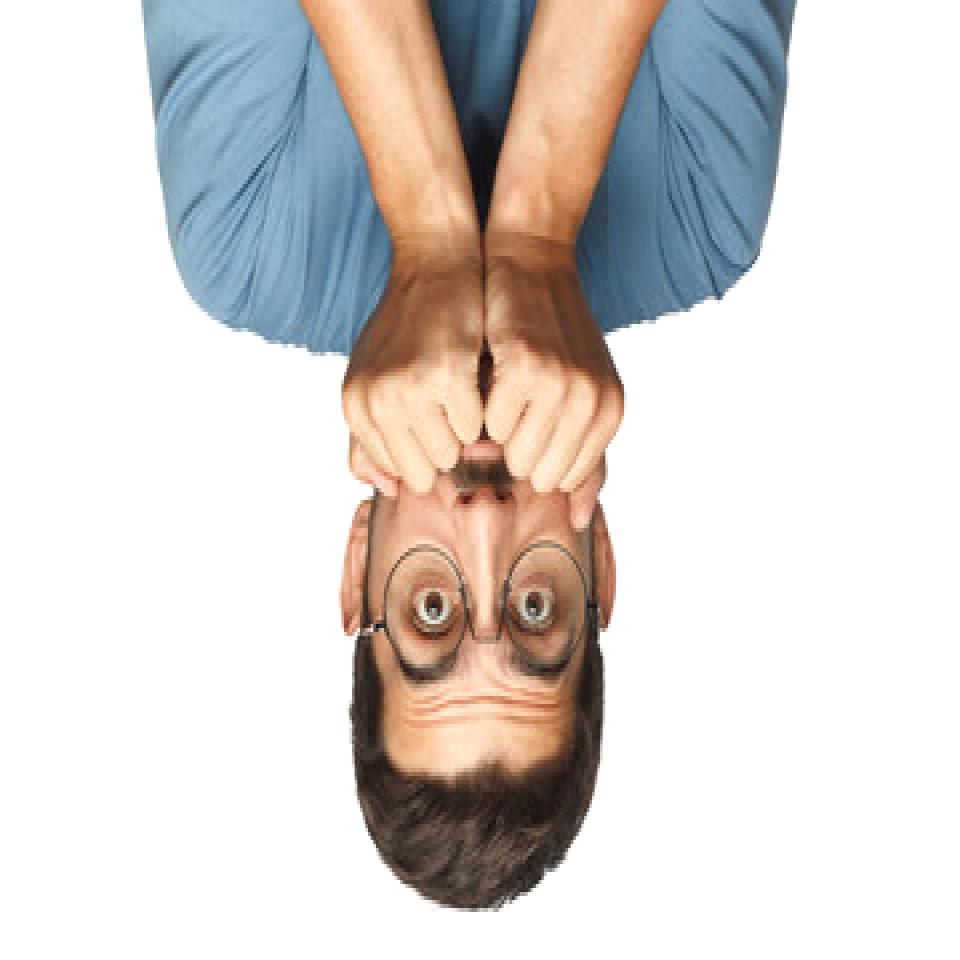Scared: (340, 256, 620, 788)
